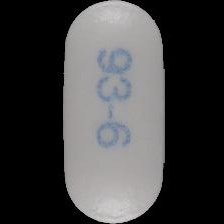49999-897: (0, 0, 224, 224)
